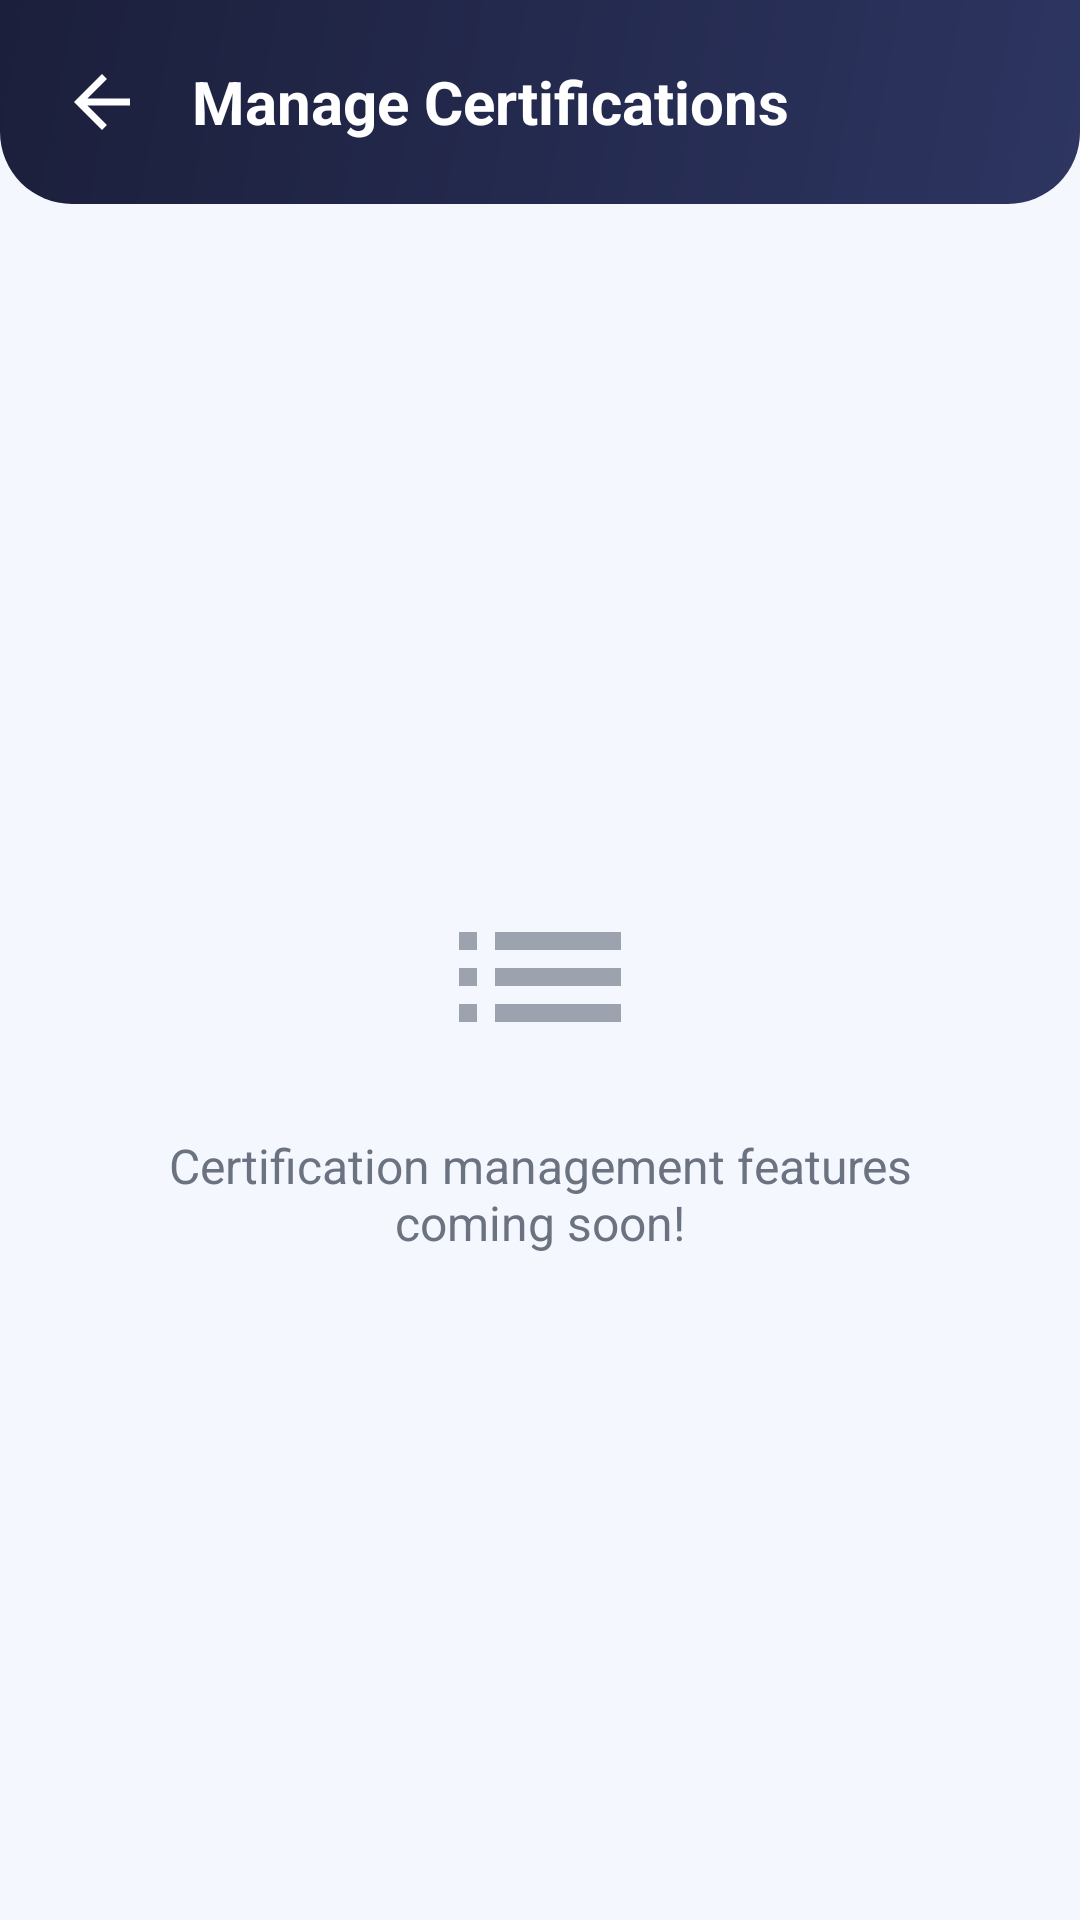

Icons on this 1080 x 1920 Android screen, each with the point to tap as (x=x, y=y):
Go back: (x=102, y=102)
